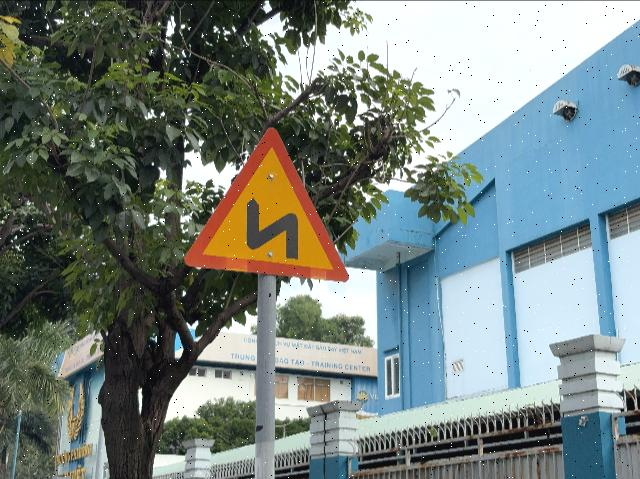nhieu-cho-ngoat-nguy-hiem-lien-tiep: (184, 127, 348, 282)
